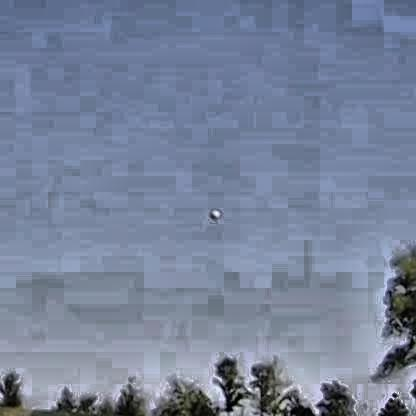golfball: (207, 207, 218, 217)
